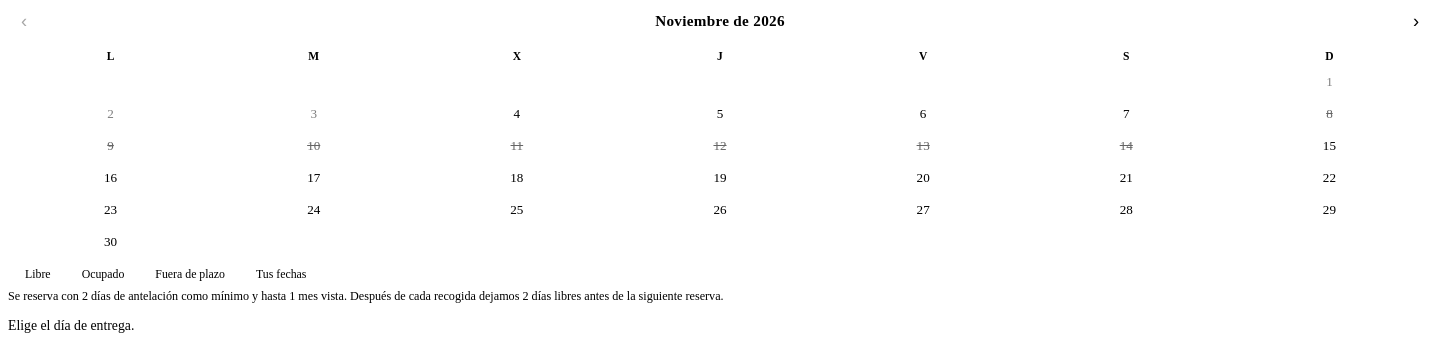
CalendarioReserva — elegir las fechas › con las dos fechas, otro clic empieza una selección nueva
Step 1. Click the button named "miércoles, 4 de noviembre de 2026" → (517, 114), box [416,99,617,129]
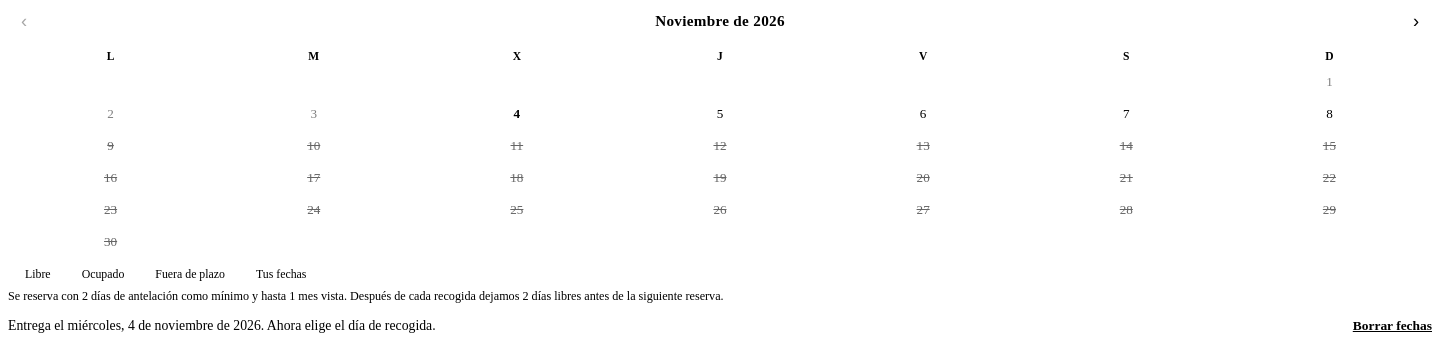
Step 2. Click the button named "viernes, 6 de noviembre de 2026" → (923, 114), box [823,99,1024,129]
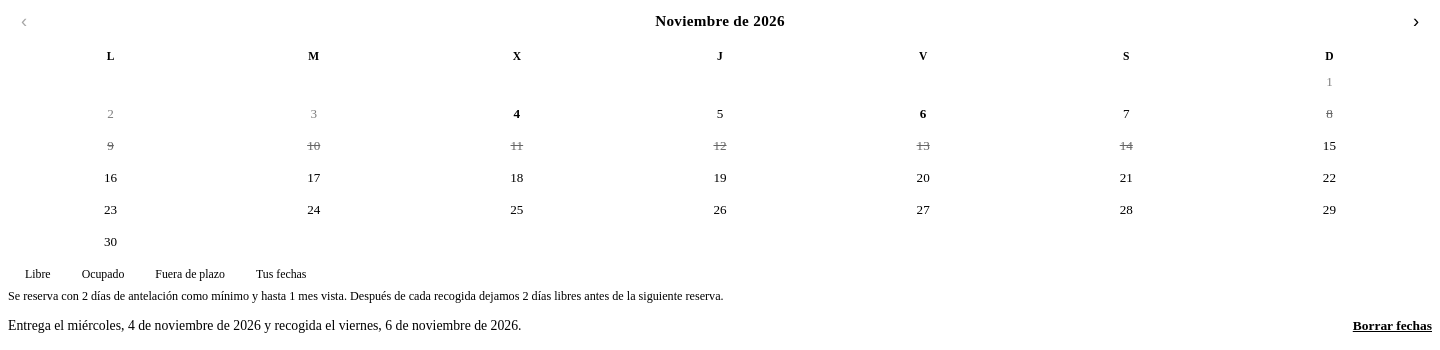
Step 3. Click the button named "domingo, 15 de noviembre de 2026" → (1329, 146), box [1229,131,1430,161]
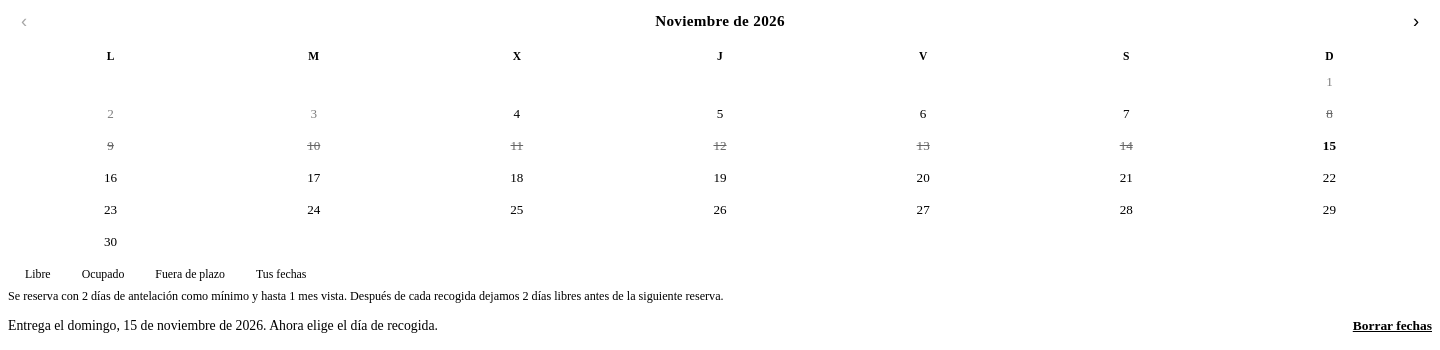
Check: the button named "domingo, 15 de noviembre de 2026, entrega" is shown, box [1229,131,1430,161]
